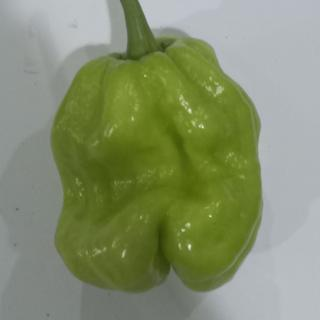Grade-A: (47, 31, 266, 293)
